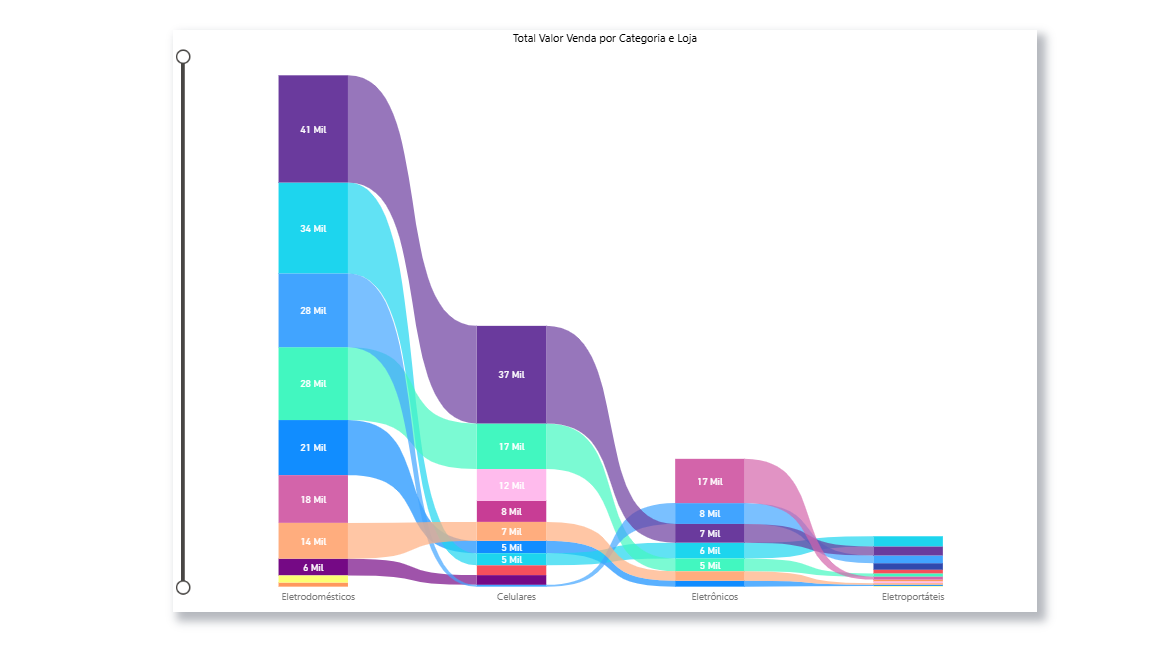

The dashboard page shown, as its layout file describes it:
{"tool":"powerbi","page":{"name":"Total de Venda por Categoria e Ponto de Venda","canvas":[1280,720],"ordinal":3},"visuals":[{"type":"ribbonChart","fields":{"Category":["Vendas.Categoria"],"Y":["Sum(Vendas.ValorVenda)"],"Series":["Vendas.Loja"]},"box":[191.9,40.6,948.3,638.7],"z":0}]}

Visuals, with their boxes in screenshot pixels (x1, y1, x2, y2), scaled from the page's 1280x720 canvas onto the 1160x648 screenshot:
ribbonChart - Vendas.Categoria x Sum(Vendas.ValorVenda): 174:37:1033:611
